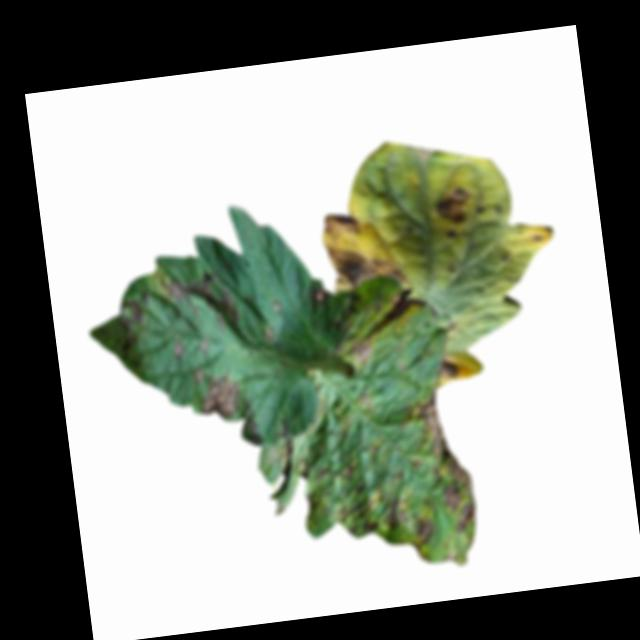Early_blight: (413, 387, 478, 536), (339, 286, 434, 366), (159, 266, 239, 336), (325, 234, 406, 295), (333, 478, 411, 539), (192, 361, 242, 423), (433, 186, 484, 227), (320, 211, 360, 243), (125, 291, 154, 332), (408, 517, 434, 552), (435, 357, 461, 380), (169, 338, 186, 362), (312, 283, 328, 306), (341, 463, 358, 480), (444, 226, 461, 242)
